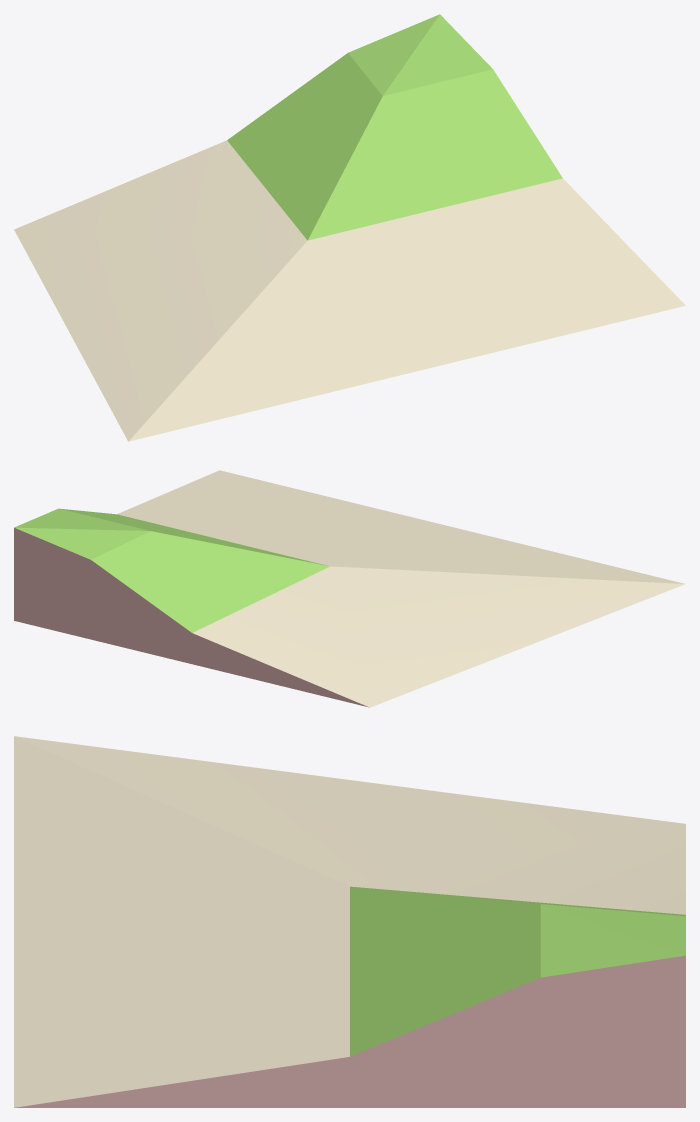
File: Path_Terrain_Y_Curve_Inner_1x1.fbx
3 renders of one model, top to bottom at view 1: azimuth 30°, elevation 25°; view 2: azimuth 150°, elevation 25°; view 3: azimuth 270°, elevation 25°, orthographic. The views are drawn at different scales.
Visible parts, largest first — view 1: Path_Terrain_Y_Curve_Inner_1x1; view 2: Path_Terrain_Y_Curve_Inner_1x1; view 3: Path_Terrain_Y_Curve_Inner_1x1.
Part boxes in pixels (x1=…): Path_Terrain_Y_Curve_Inner_1x1: x1=14, y1=14, x2=685, y2=441; Path_Terrain_Y_Curve_Inner_1x1: x1=14, y1=470, x2=685, y2=707; Path_Terrain_Y_Curve_Inner_1x1: x1=14, y1=736, x2=685, y2=1107.
Bounding box in the file's own units: 131 × 25 × 100.
